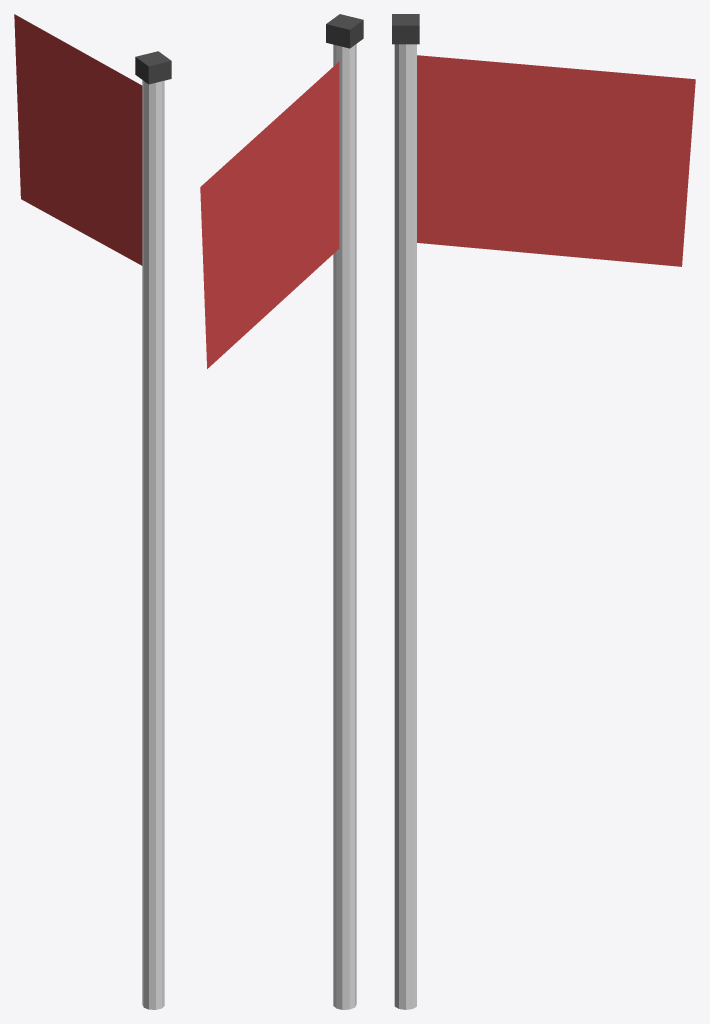
The model's file is SM_CornerFlag.fbx.
3 views of the same model, side by side, from view 1: azimuth 30°, elevation 25°; view 2: azimuth 150°, elevation 25°; view 3: azimuth 270°, elevation 25° (orthographic). The views are drawn at different scales.
Parts seen in each view (by area): view 1: SM_CornerFlag; view 2: SM_CornerFlag; view 3: SM_CornerFlag.
Boxes of the visible parts, x1,y1,x2,y2 form: SM_CornerFlag: [14, 14, 171, 1009]; SM_CornerFlag: [200, 14, 363, 1009]; SM_CornerFlag: [392, 14, 695, 1009].
Size of the model in its own units: 0.04 by 1.57 by 0.44.
